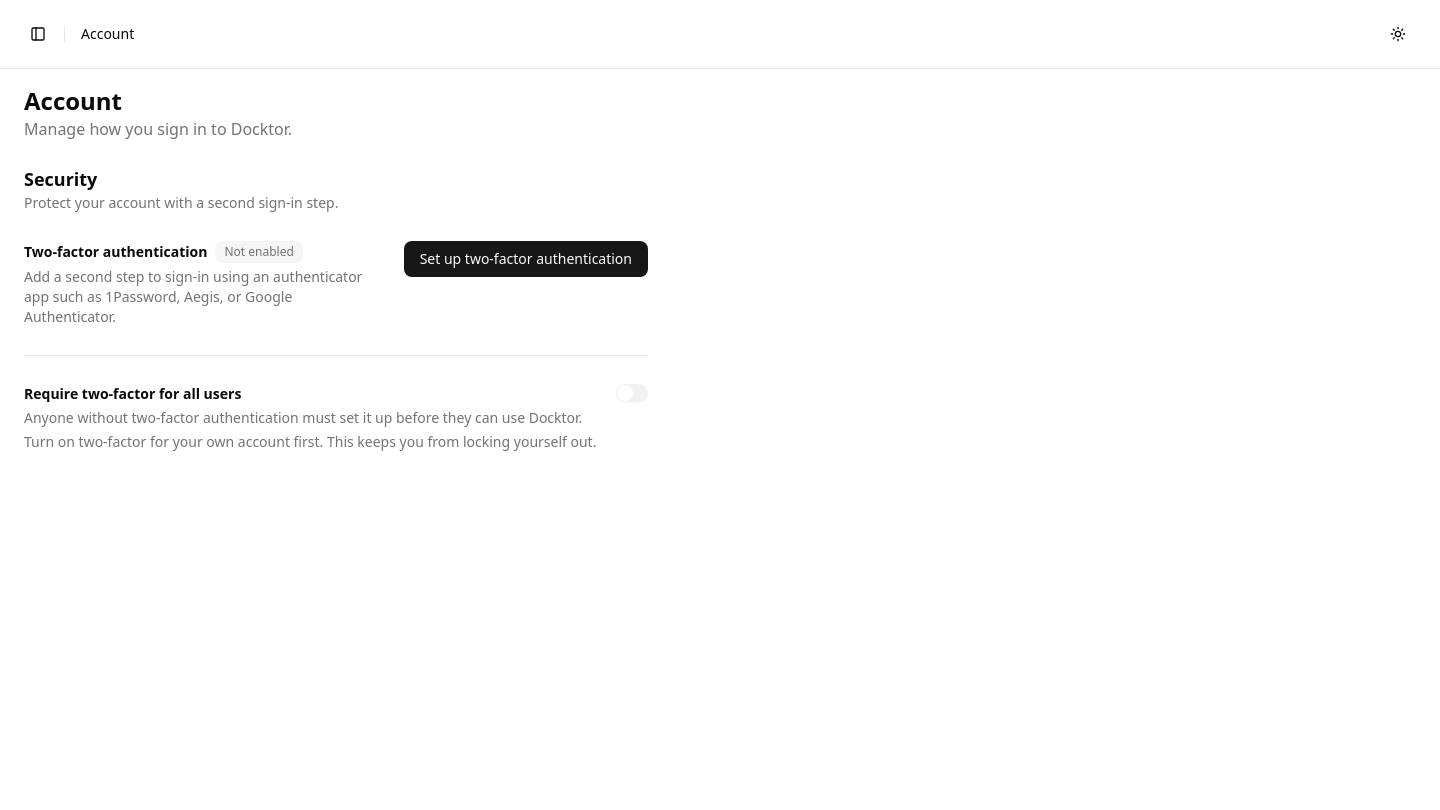
AccountPage › opens the enrollment dialog from the setup button
This screenshot has width=1440, height=810.
Step 1. Click the button "Set up two-factor authentication" → (526, 259), box [404, 241, 648, 277]
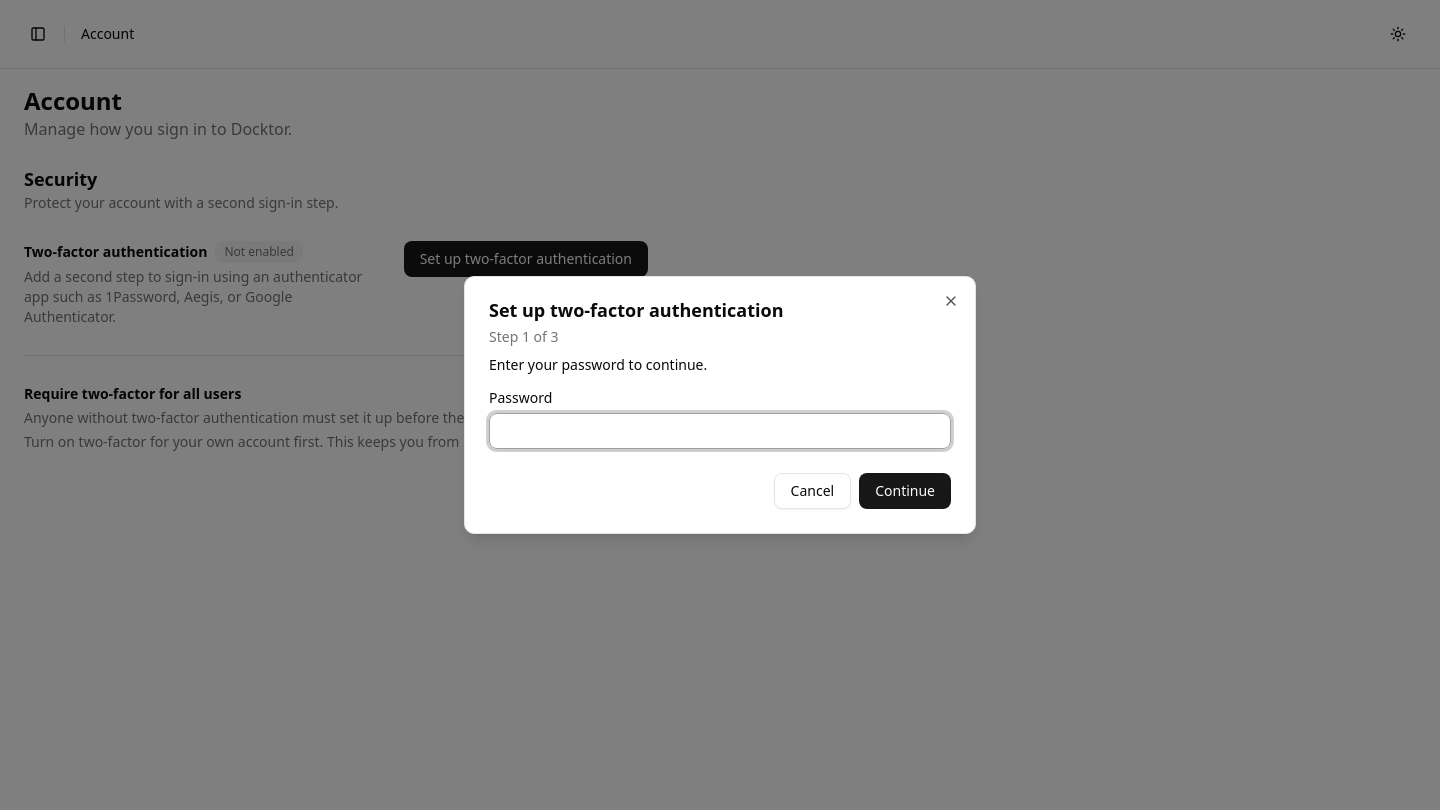
Result: the dialog is shown at [464, 276, 976, 534]
Result: the text "Step 1 of 3" is shown at [489, 327, 558, 346]
Result: the password field labelled "Password" is shown at [489, 413, 951, 449]
